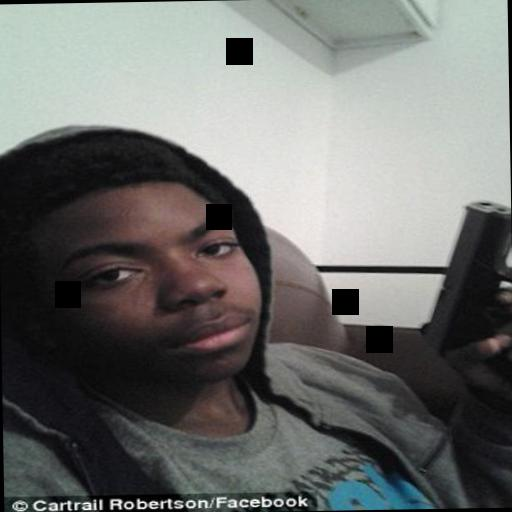Handgun: (414, 194, 512, 365)
